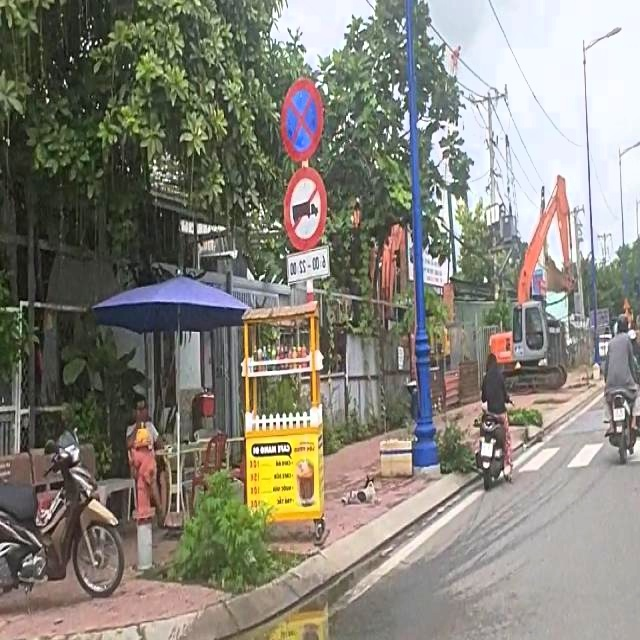B.8a: (282, 167, 326, 253)
P.130: (280, 76, 324, 162)
